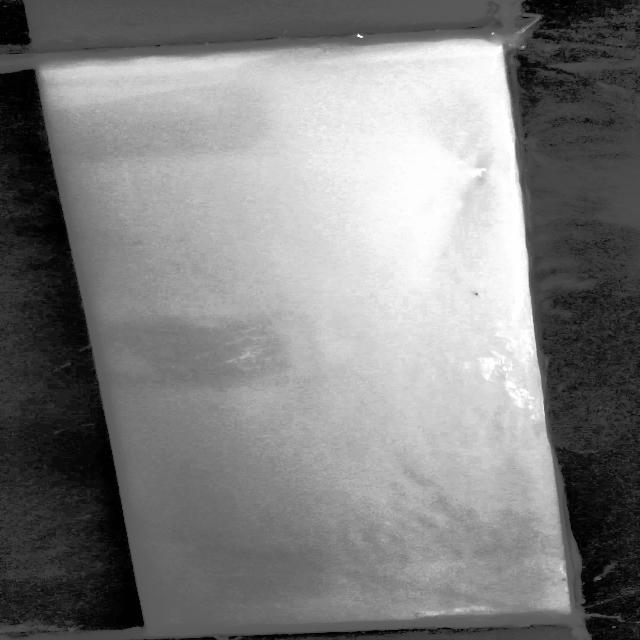shrimp: (456, 288, 490, 302)
